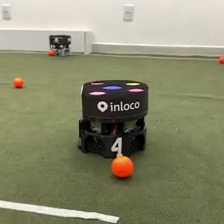ball: (109, 153, 136, 180), (11, 75, 25, 89), (217, 53, 224, 65), (47, 48, 55, 56)
goal: (1, 27, 94, 56)
robot: (75, 77, 150, 159), (46, 32, 73, 58)
